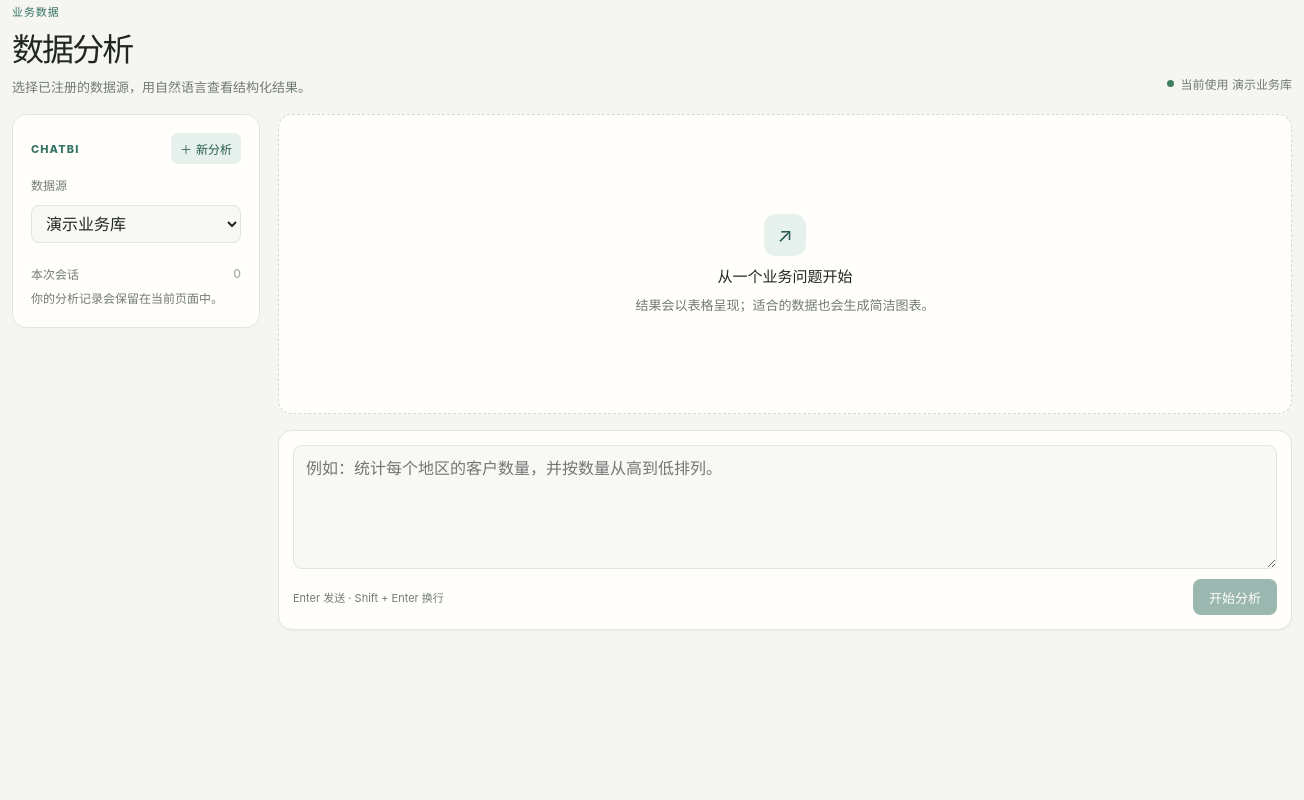
Test: AnalysisView › keeps an empty successful result explicit
The image size is (1304, 800).
expect the dropdown labelled "数据源" shows "演示业务库": met, box [31,205,241,243]
Type "统计一个不存在的区域" into the text box with placeholder "例如：统计每个地区的客户数量，并按数量从高到低排列。". click: [785, 507]
box: [293,445,1277,569]
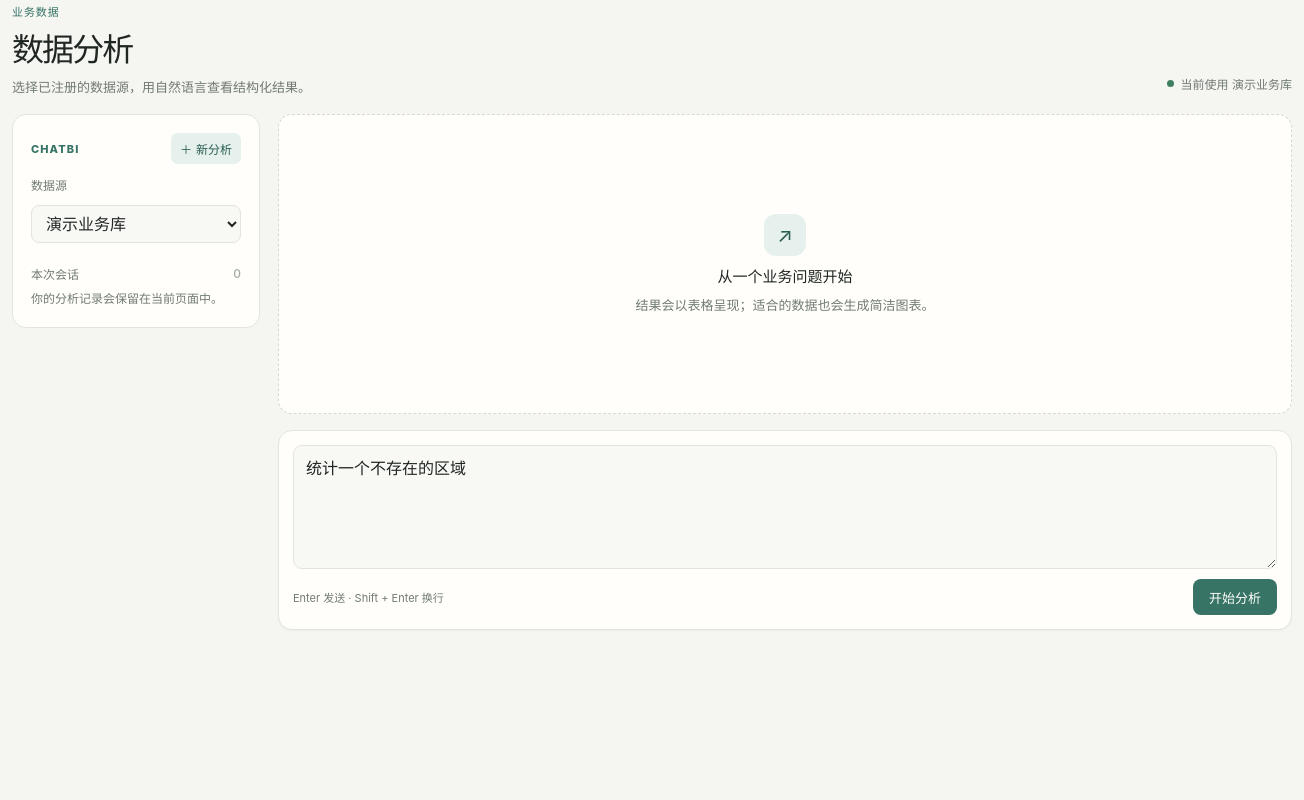
Press Enter in the text box named "分析问题", box [293,445,1277,569]
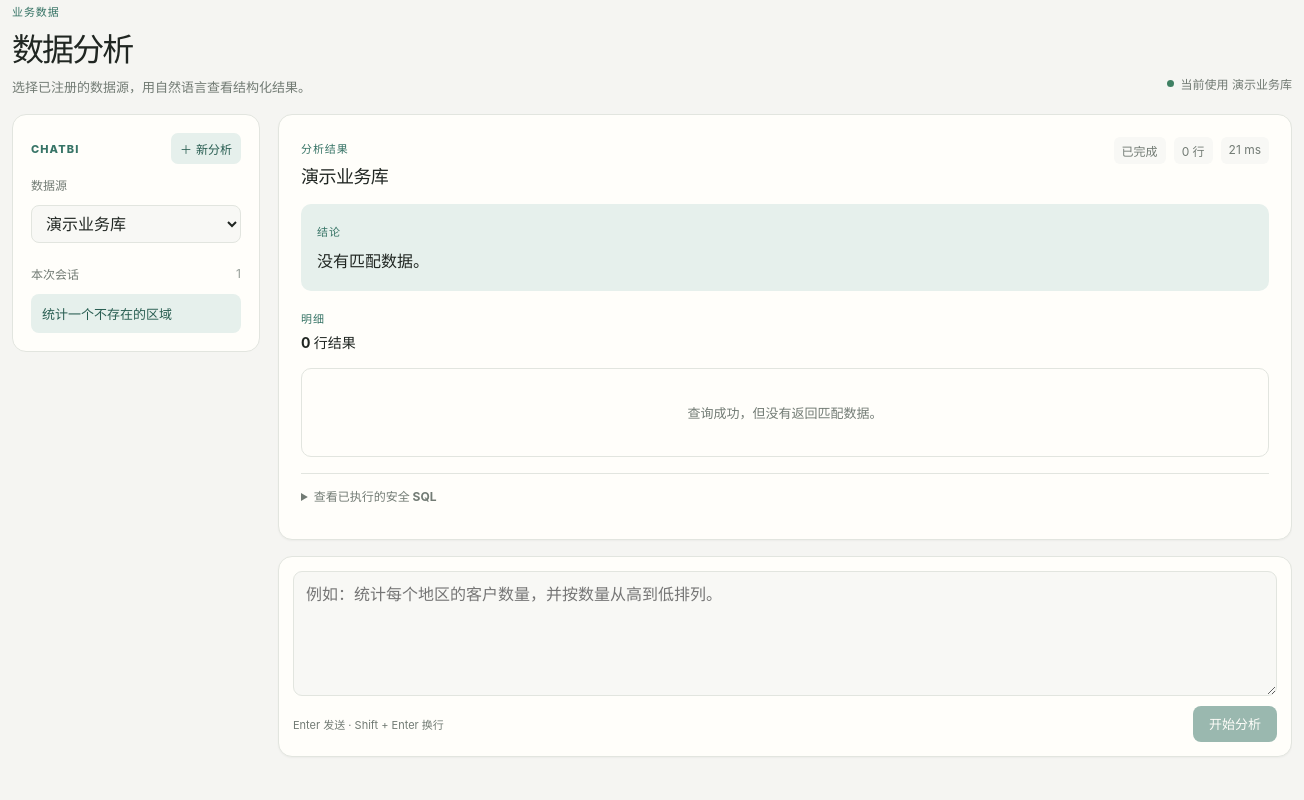
expect the text "没有匹配数据" is shown: met, box [317,251,429,271]
expect the text "查询成功，但没有返回匹配数据。" is shown: met, box [688,405,882,421]
